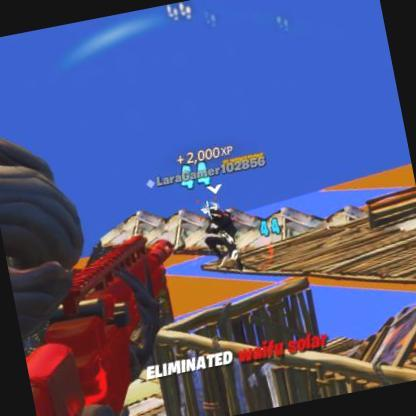person: (200, 202, 238, 262)
